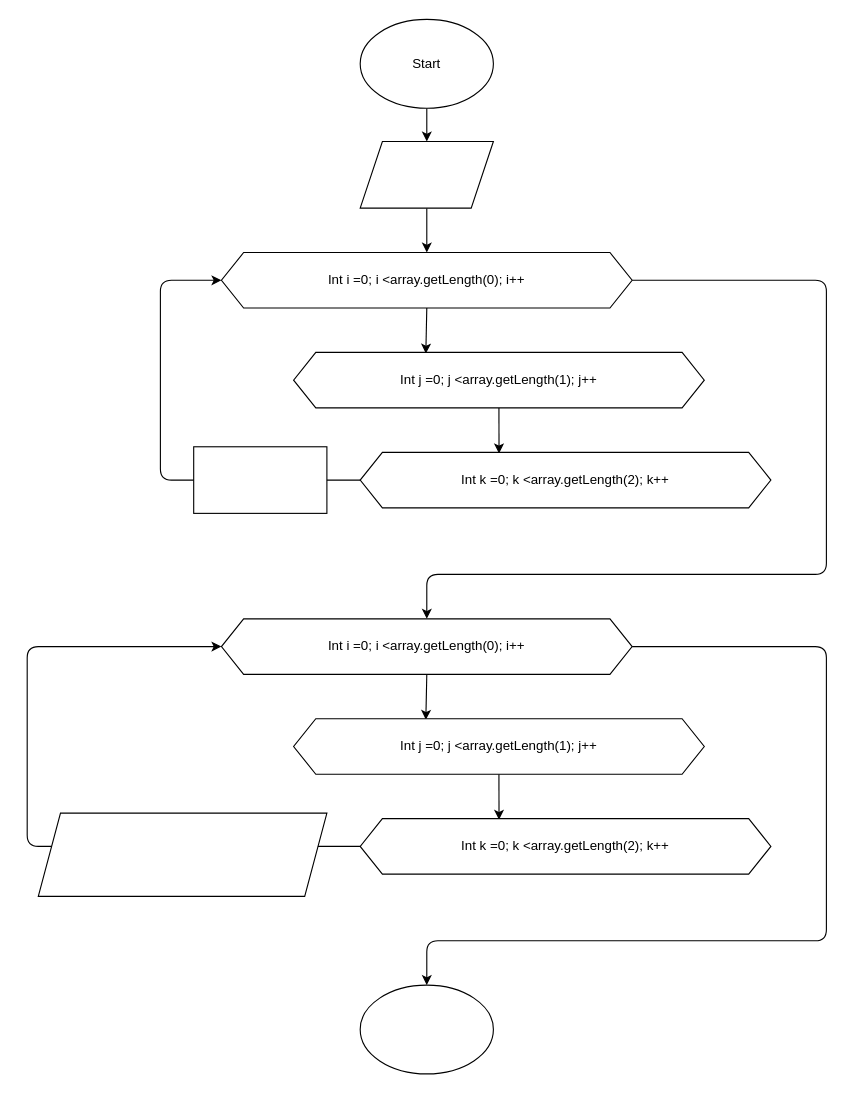
Some shapes in this 855 by 1093 pixel diagram are drawn without their labels. The shapes that lost their labels are listed below. From the top down, each one's centre as x and y in pixels, then its label:
[426,174]: array [2,2,2] count = 10
[260,479]: array[,,]+=count count+=7
[182,854]: WriteLine($"array[i,j,k] ({i}, {j}, {k}")
[426,1029]: End
